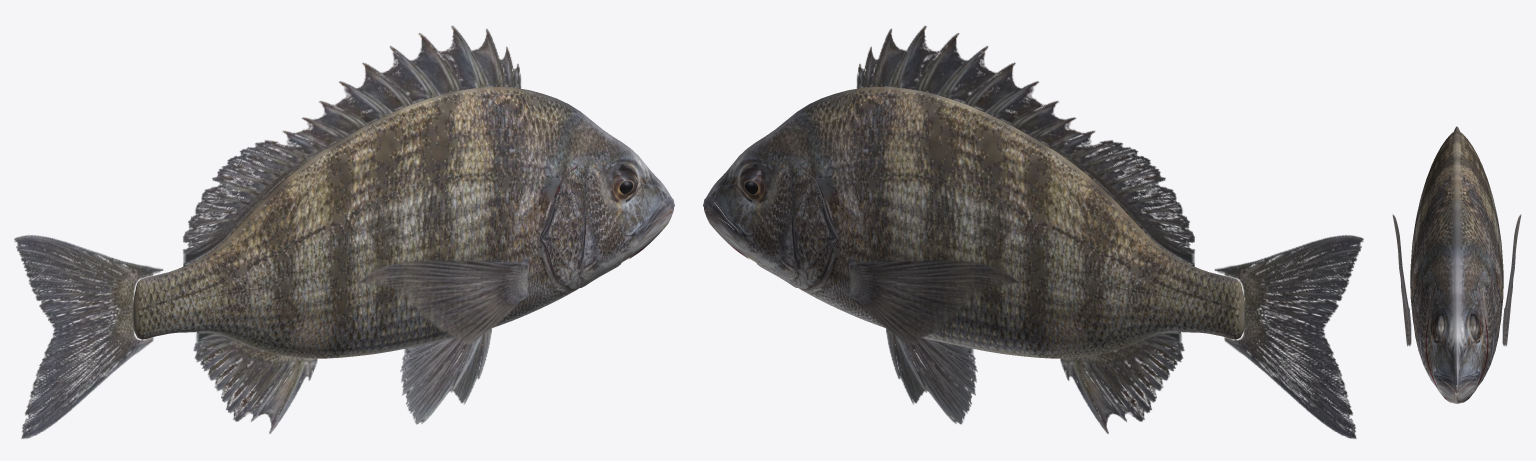
Rendered from kurodai.glb.
3 views of the same model, side by side, from view 1: azimuth 30°, elevation 25°; view 2: azimuth 150°, elevation 25°; view 3: azimuth 270°, elevation 25° (orthographic). The views are drawn at different scales.
Parts seen in each view (by area): view 1: kurodai; view 2: kurodai; view 3: kurodai.
Part boxes in pixels (<box>): kurodai: <box>14,25,674,438</box>; kurodai: <box>703,25,1363,438</box>; kurodai: <box>1392,126,1521,403</box>.
Size of the model in its own units: 0.4008 by 0.2273 by 0.0814.
1 material, 1 textured.
